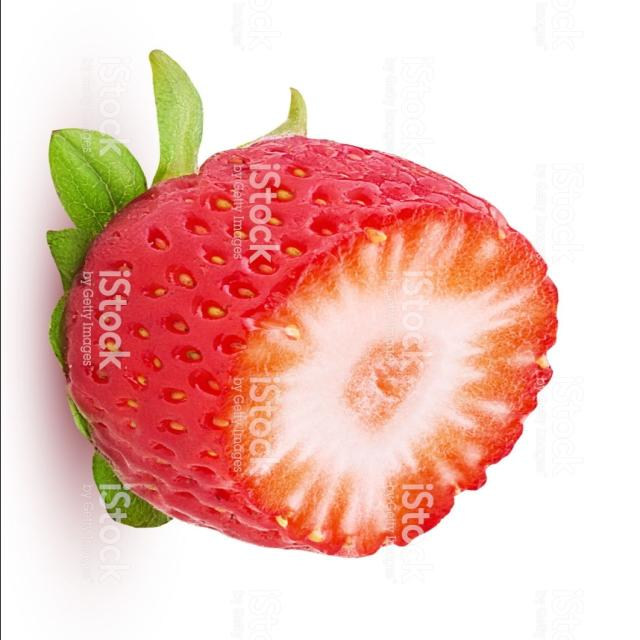strawberry: (0, 40, 575, 568)
